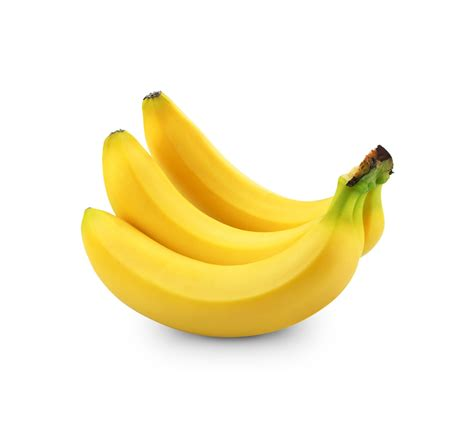banana: (74, 204, 360, 344), (141, 88, 386, 250), (98, 126, 325, 270)
